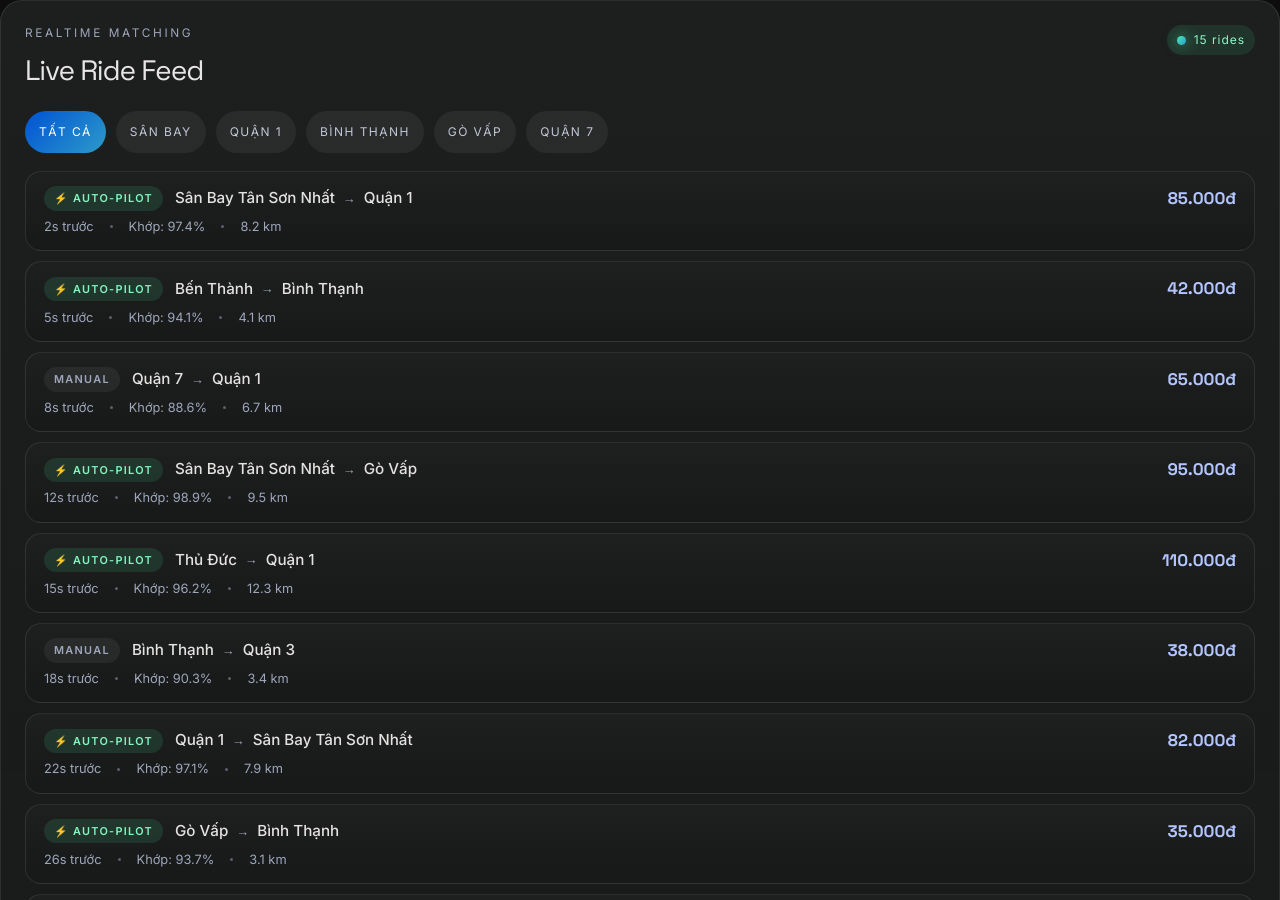
it: ExpandedRideFeed › shows all items when Tất Cả pill is active
The image size is (1280, 900).
What coordinates should you click on to do the following:
click the button "Sân Bay"
I would click on:
 (161, 132)
Its box is [116, 111, 206, 153].
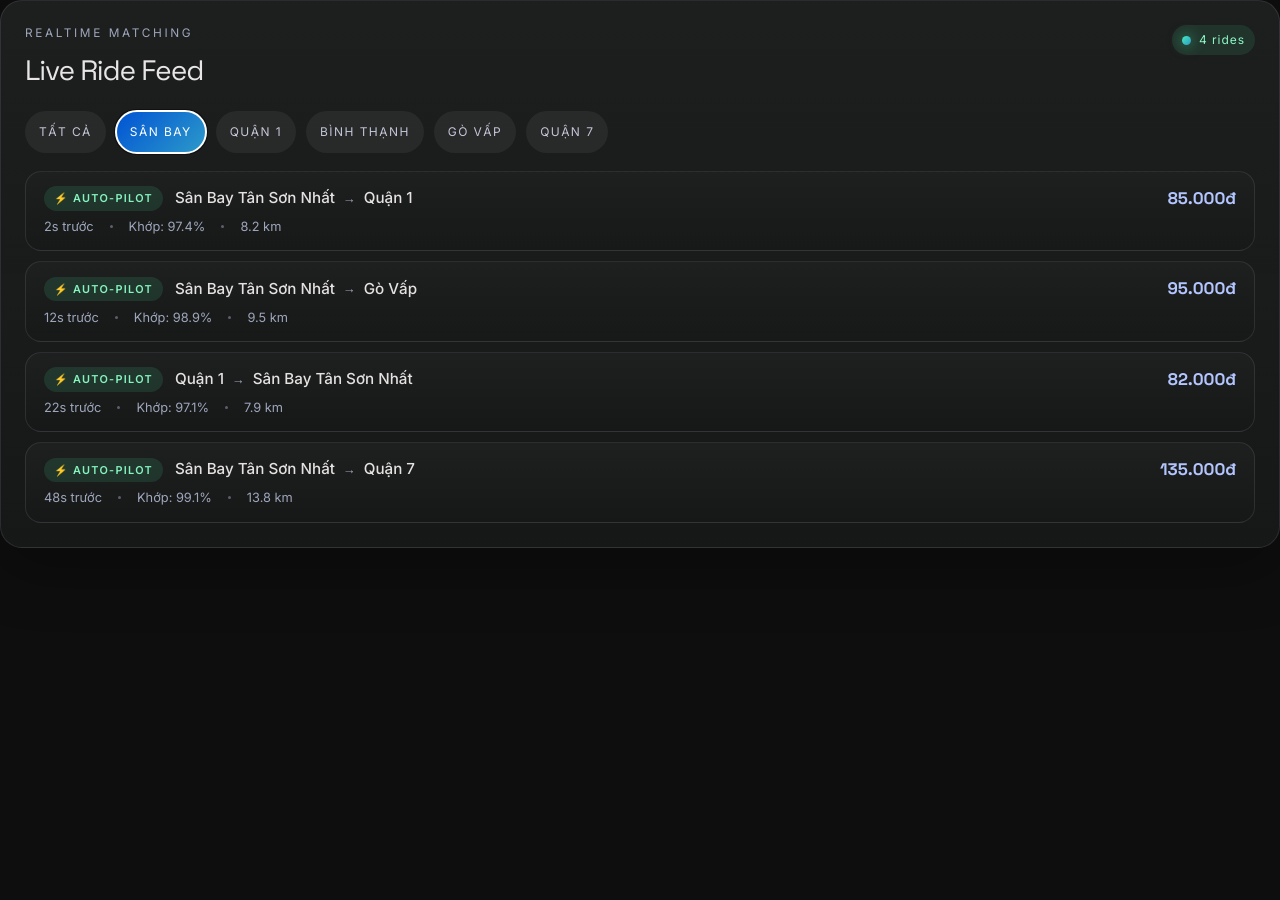
What coordinates should you click on to do the following:
click the button "Tất Cả"
I would click on:
 (65, 132)
Its box is [25, 111, 106, 153].
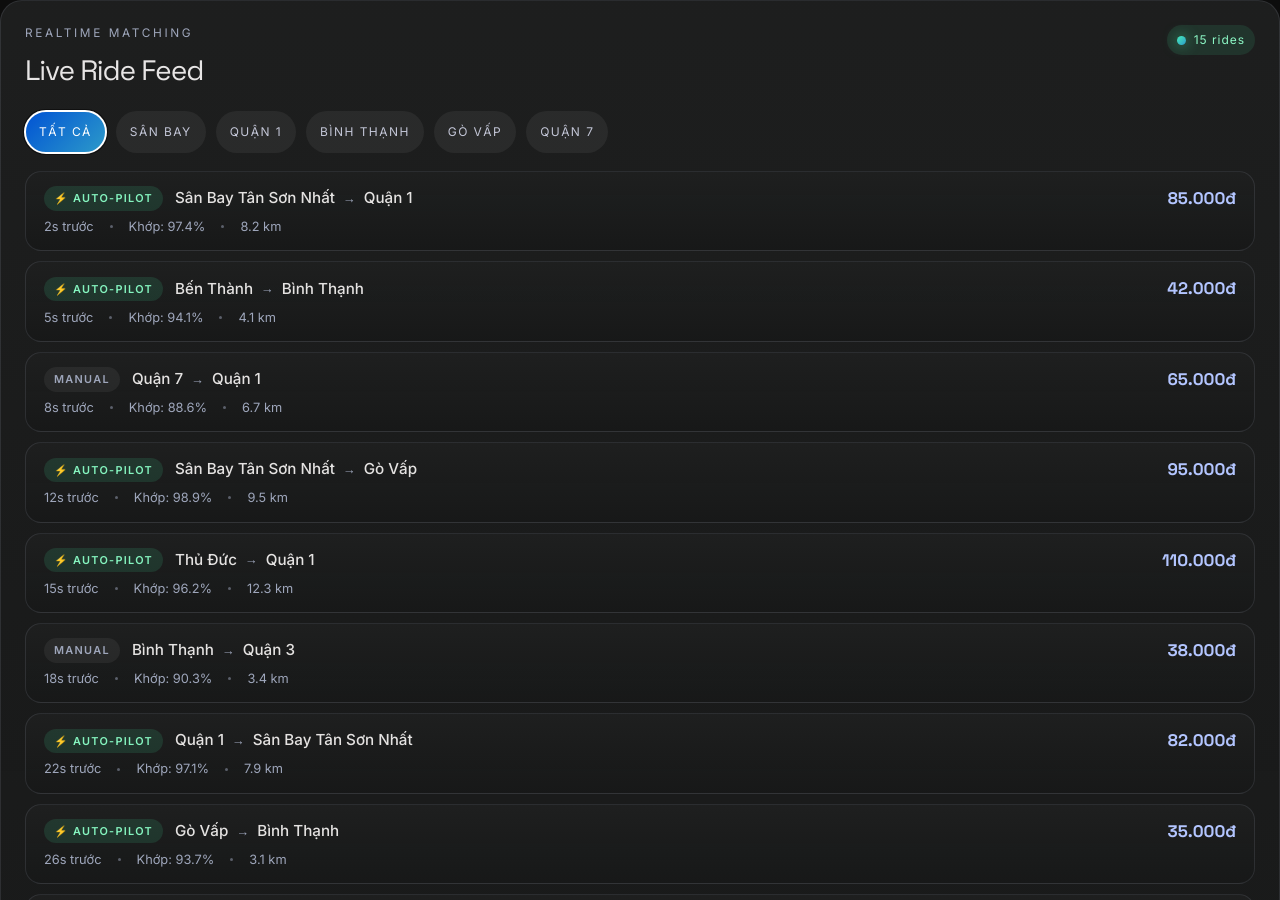
Now the text "→" is shown 15 times
